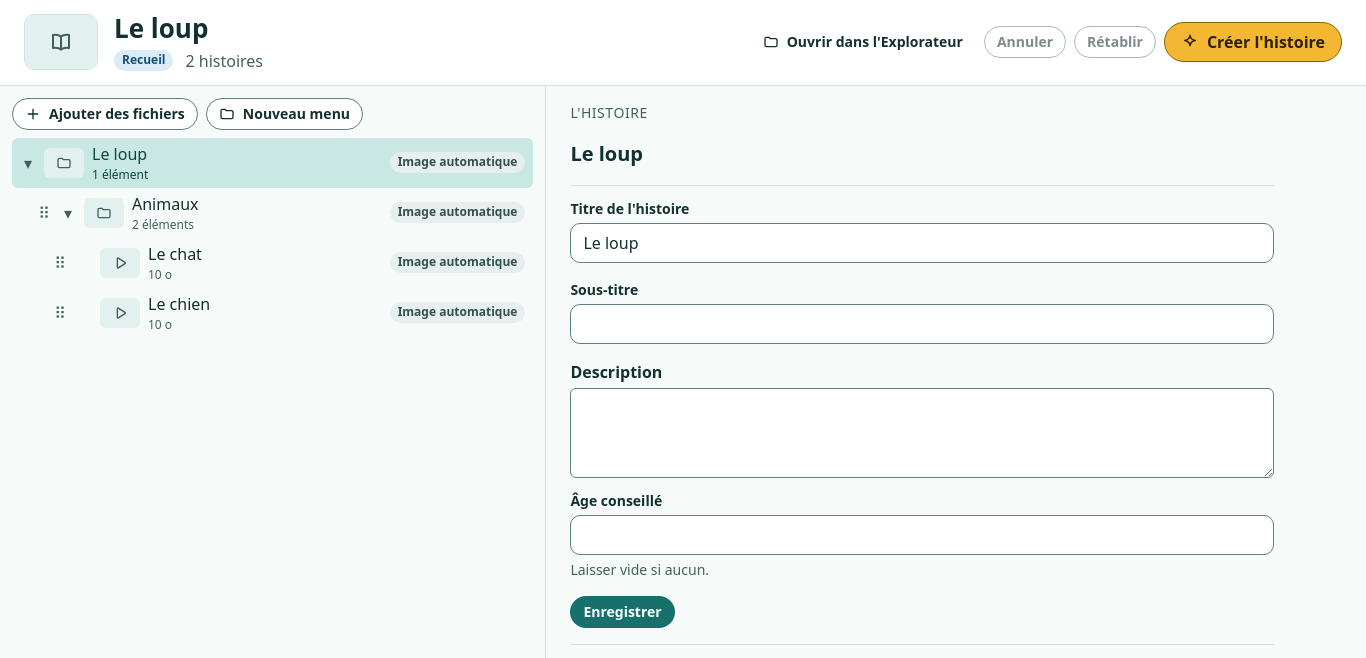
Test: changement ailleurs : la sélection reste sur l'élément s'il existe
This screenshot has width=1366, height=658.
Step 1. Click the list item "⠿ Le chat 10 o Image automatique" → [120, 262], box [12,238,533,288]
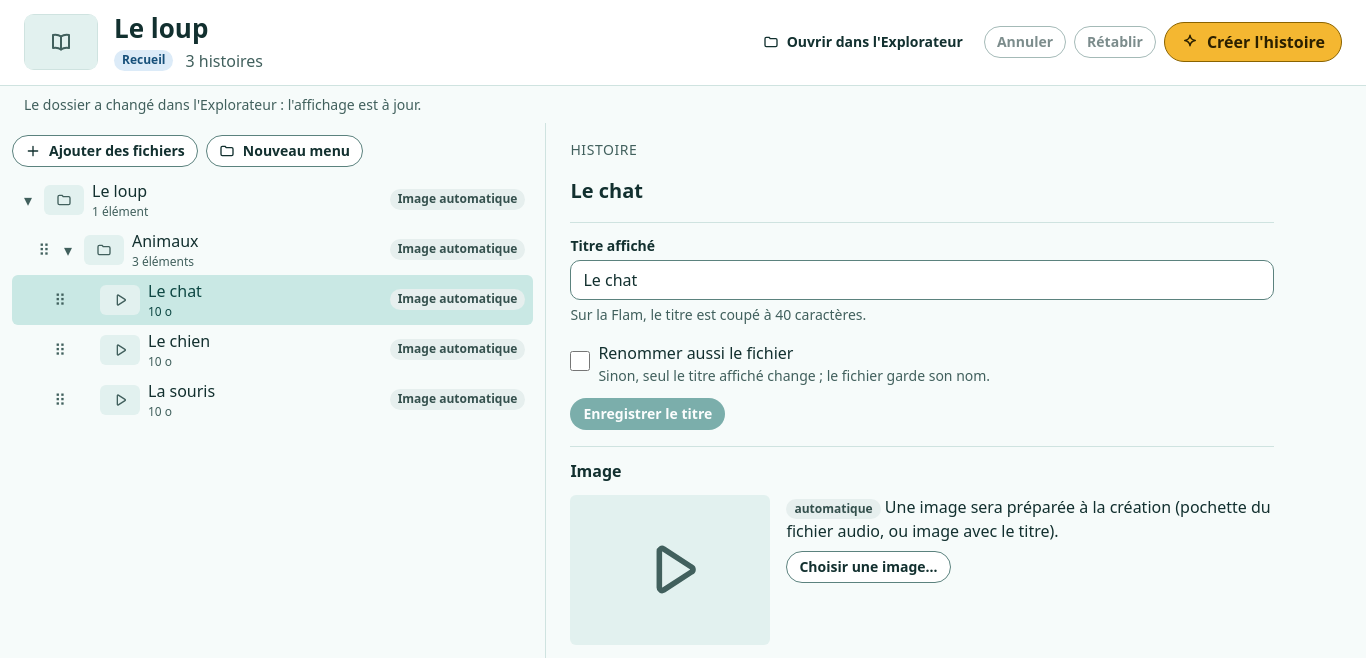
Check: the list item "⠿ La souris 10 o Image automatique" is shown, box [12,374,533,424]
Check: the heading "Le chat" is shown, box [570,176,643,204]
Check: the text "Le dossier a changé dans l'Explorateur : l'affichage est à jour." is shown, box [24,94,421,114]
